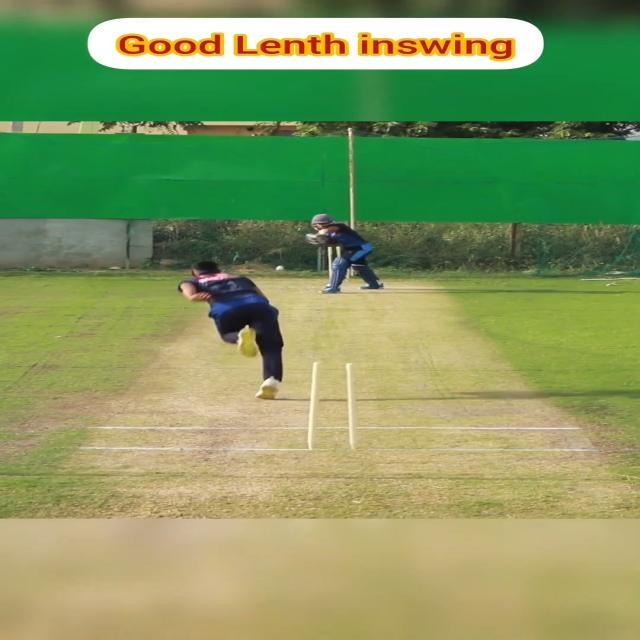ball: (275, 265, 285, 271)
stump: (305, 361, 360, 450)
